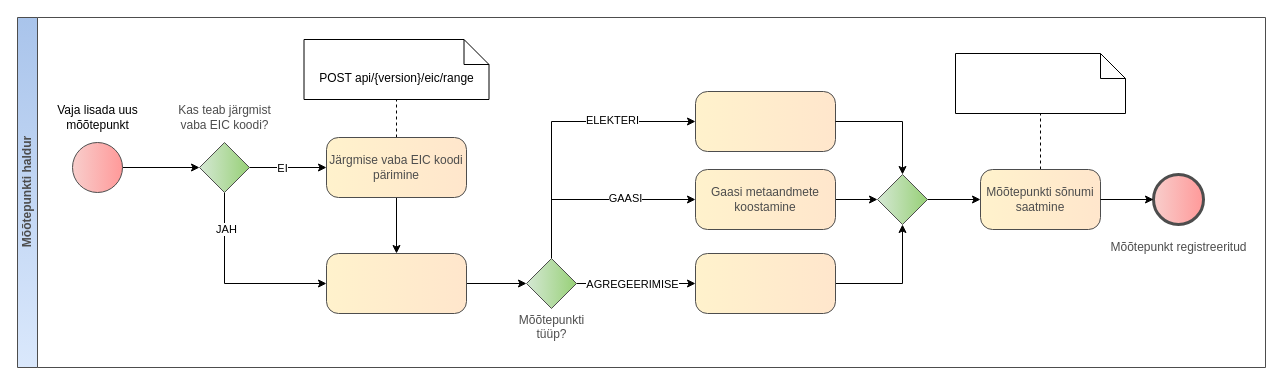
The diagram is 1283 pixels wide and 385 high, and some of its shapes have lost their labels. The shapes that lost their labels are listed below. From the top down, each one's centre as x and y in pixels, then its label:
At [1040,83]: "POST api/{version}/meter".
At [765,121]: "Elektri metaandmete koostamine".
At [396,283]: "Mõõtepunkti sõnumi koostamine".
At [765,283]: "Agregeerimise metaandmete koostamine".
